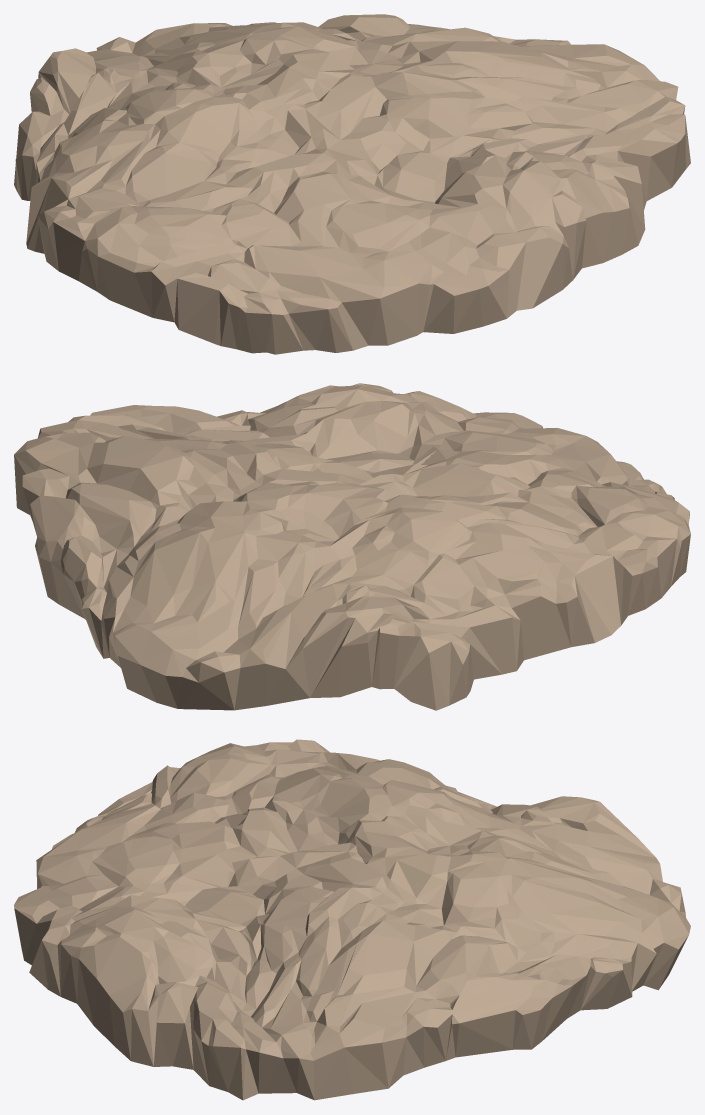
Rendered from rock_slab_bare_mobile.glb.
The picture shows the model from 3 angles, top to bottom: view 1: azimuth 30°, elevation 25°; view 2: azimuth 150°, elevation 25°; view 3: azimuth 270°, elevation 25°; orthographic projection. The views are drawn at different scales.
Visible parts, largest first — view 1: SM_Env_Rock_Ground_01; view 2: SM_Env_Rock_Ground_01; view 3: SM_Env_Rock_Ground_01.
Boxes of the visible parts, left/top/right/bottom form: SM_Env_Rock_Ground_01: left=14, top=14, right=690, bottom=354; SM_Env_Rock_Ground_01: left=14, top=383, right=690, bottom=710; SM_Env_Rock_Ground_01: left=14, top=739, right=690, bottom=1100.
Bounding box in the file's own units: 2.93 × 0.5553 × 2.81.
1 material, 1 textured.
